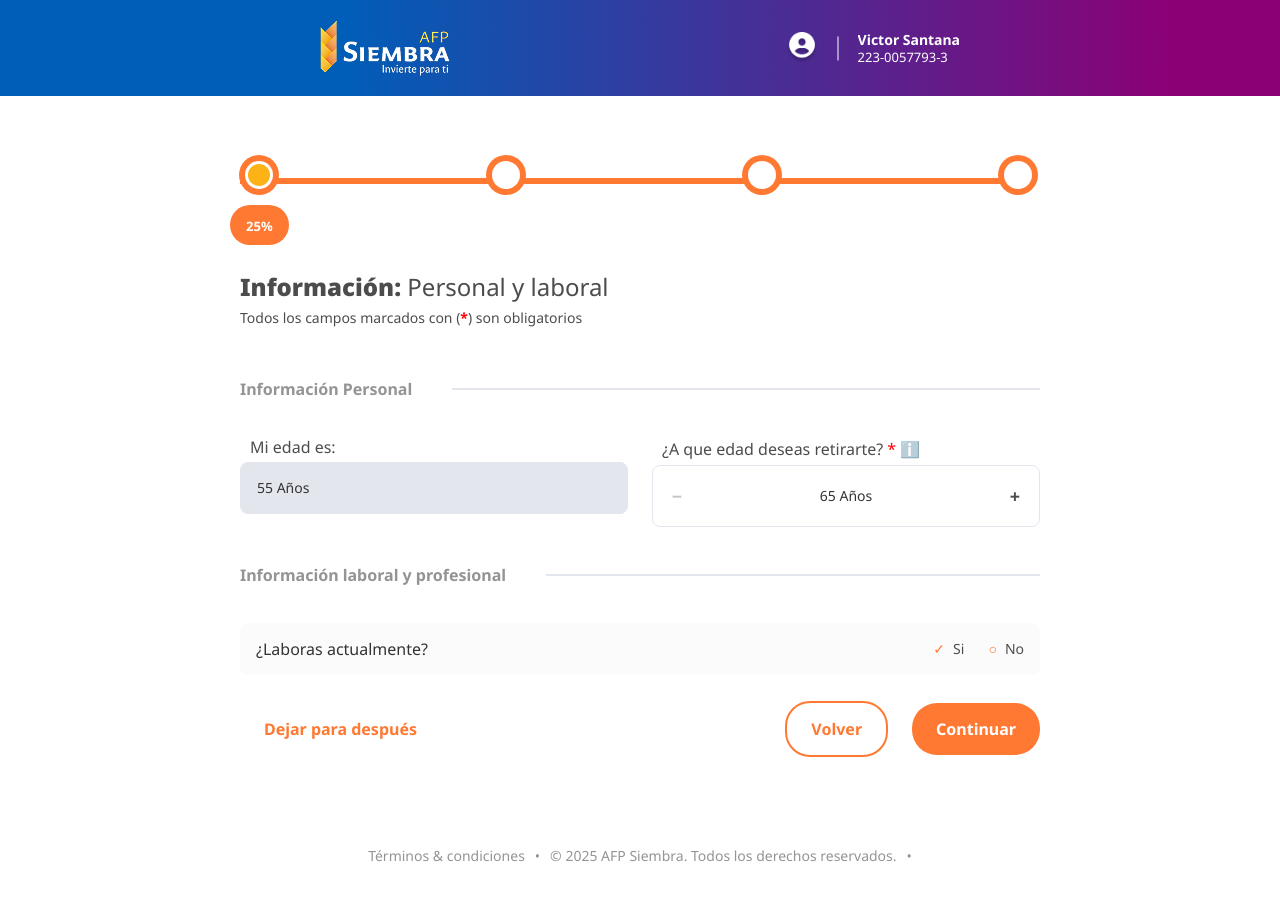
Test: Step1 Component › Retirement Age Controls › increments retirement age with + button
Step 1. Click the button "+" → (1015, 496), box [1007, 482, 1023, 510]
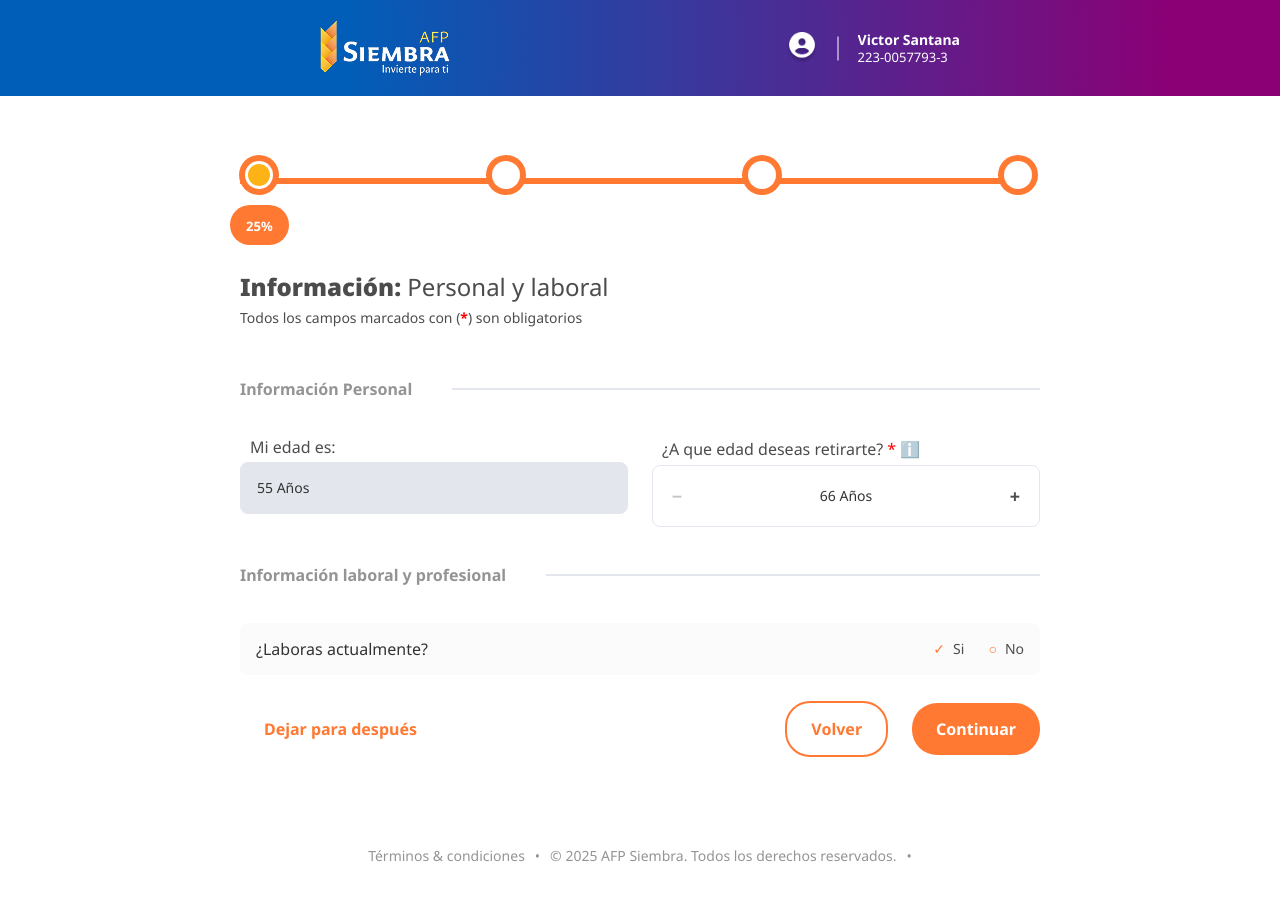
Now the text "66 Años" is shown, box [820, 486, 872, 505]
